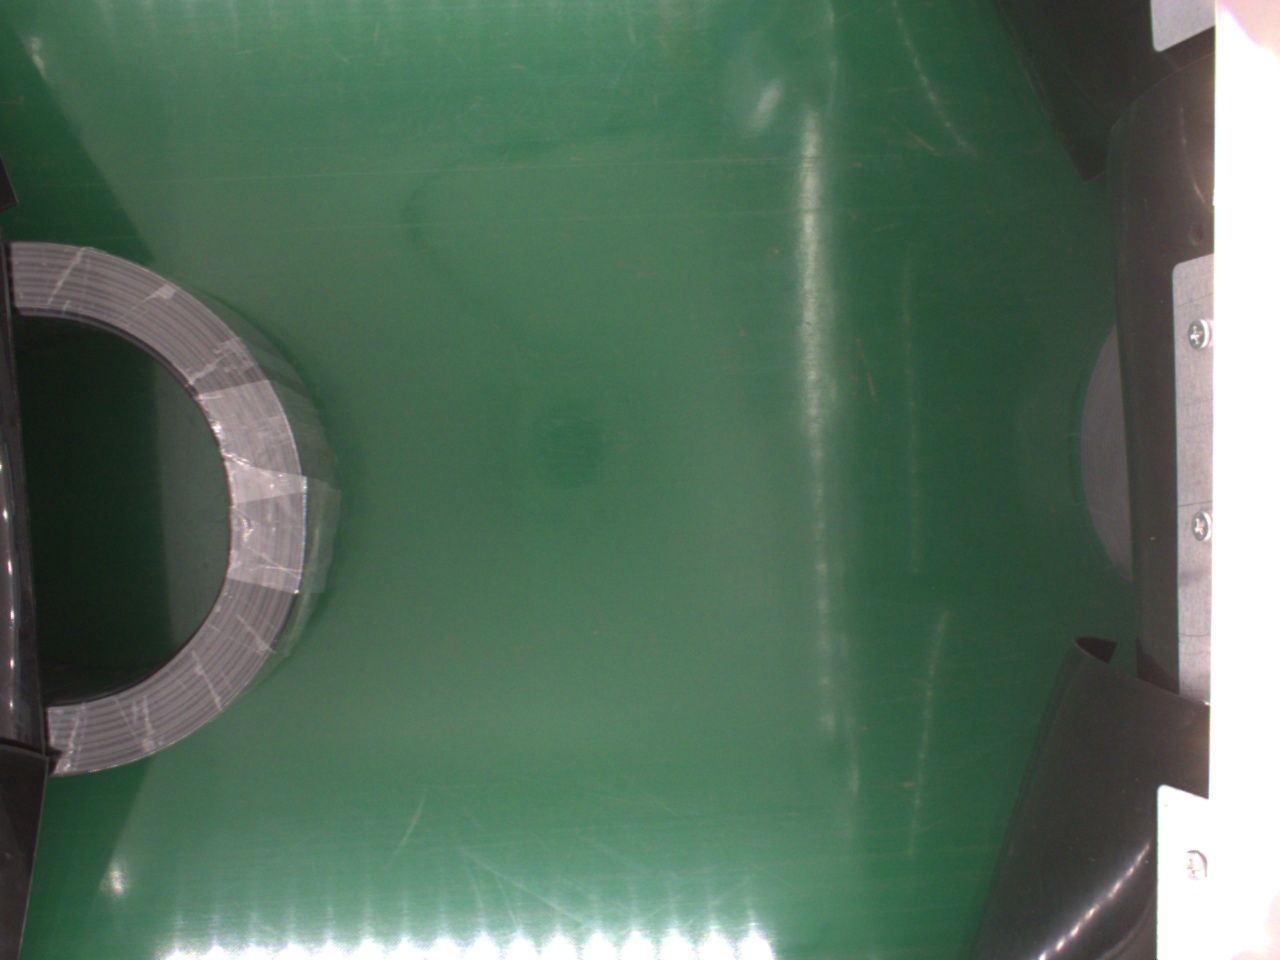black: (14, 240, 339, 776)
